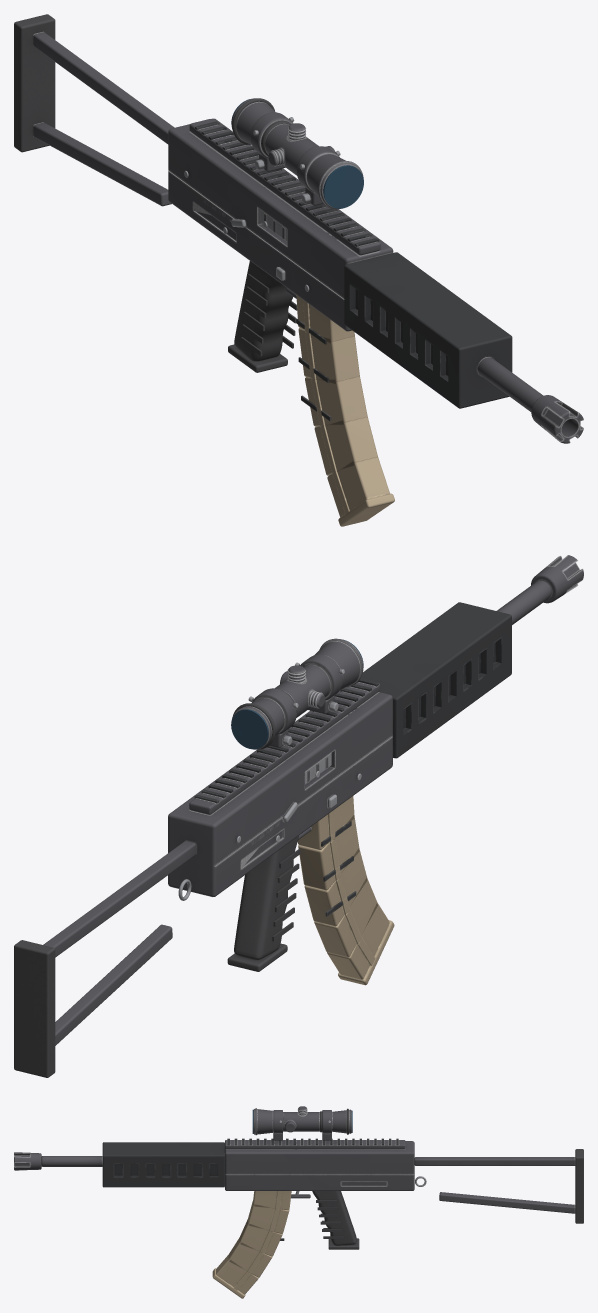
3 views of the same model, one above another, from view 1: azimuth 30°, elevation 25°; view 2: azimuth 150°, elevation 25°; view 3: azimuth 270°, elevation 25° (orthographic). The views are drawn at different scales.
Visible parts, largest first — view 1: sg553; view 2: sg553; view 3: sg553.
Boxes of the visible parts, bbox=[...] form: sg553: bbox=[14, 14, 583, 526]; sg553: bbox=[14, 555, 583, 1077]; sg553: bbox=[14, 1106, 583, 1298].
Size of the model in its own units: 0.055 by 0.3393 by 0.932.
